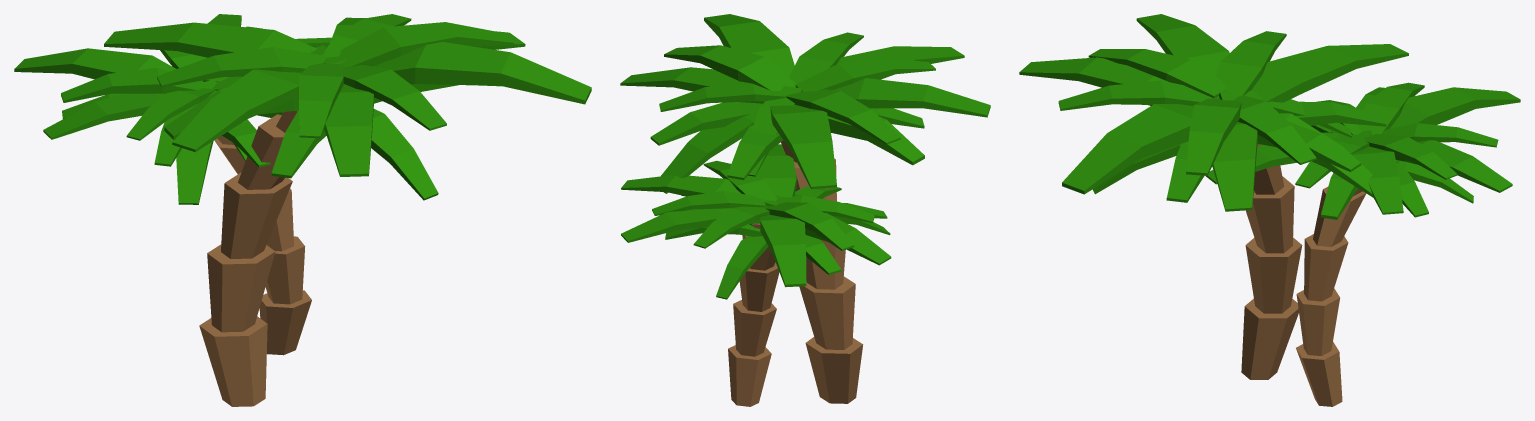
Rendered from PalmTreeDuo.fbx.
The picture shows the model from 3 angles, left to right: view 1: azimuth 30°, elevation 25°; view 2: azimuth 150°, elevation 25°; view 3: azimuth 270°, elevation 25°; orthographic projection. The views are drawn at different scales.
Parts seen in each view (by area): view 1: Cube.003; view 2: Cube.003; view 3: Cube.003.
Boxes of the visible parts, x1,y1,x2,y2 form: Cube.003: [14, 14, 591, 406]; Cube.003: [620, 14, 990, 406]; Cube.003: [1019, 14, 1520, 406].
Size of the model in its own units: 645 by 549 by 773.
